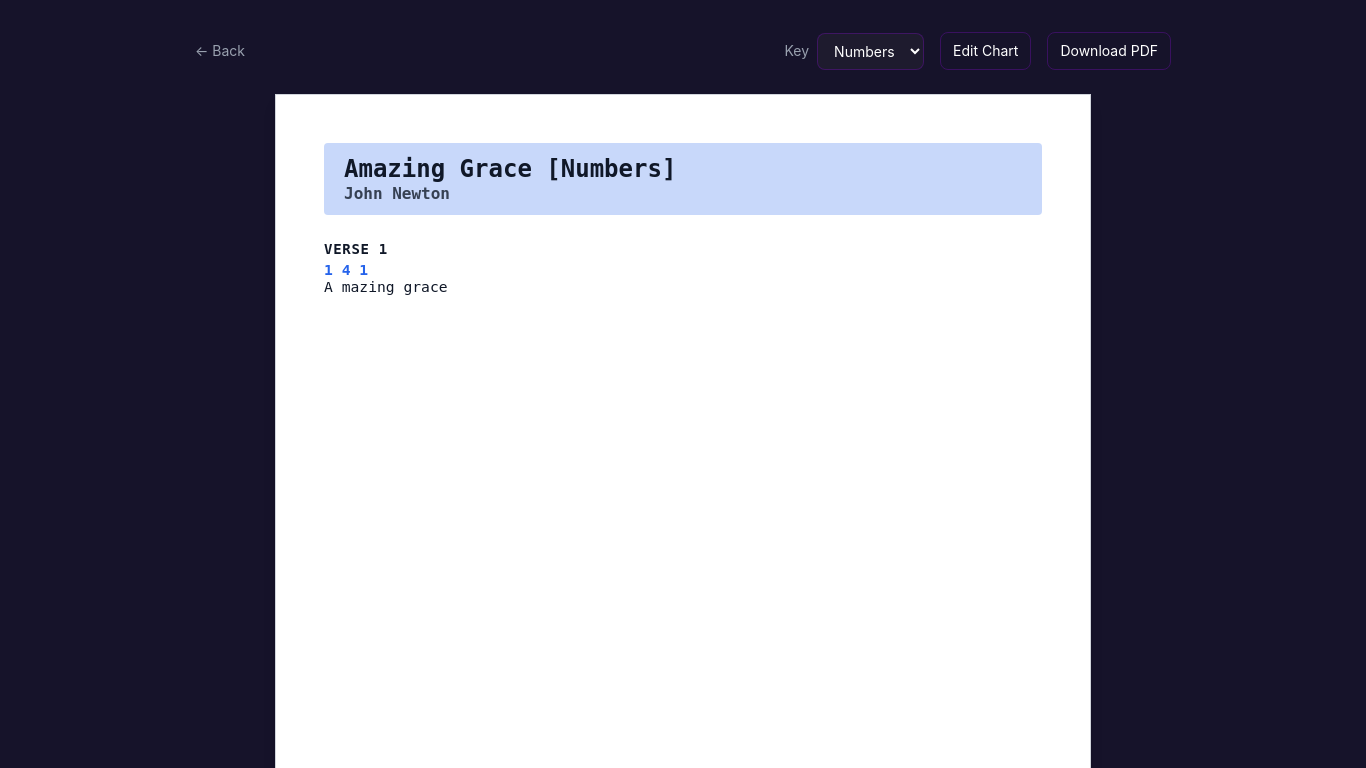
Test: ChartViewerPage — Download PDF (#13) › surfaces a role="alert" error when downloadChartPdf rejects (R13.3)
Click the button "Download PDF": [1109, 51] box [1047,32,1171,70]
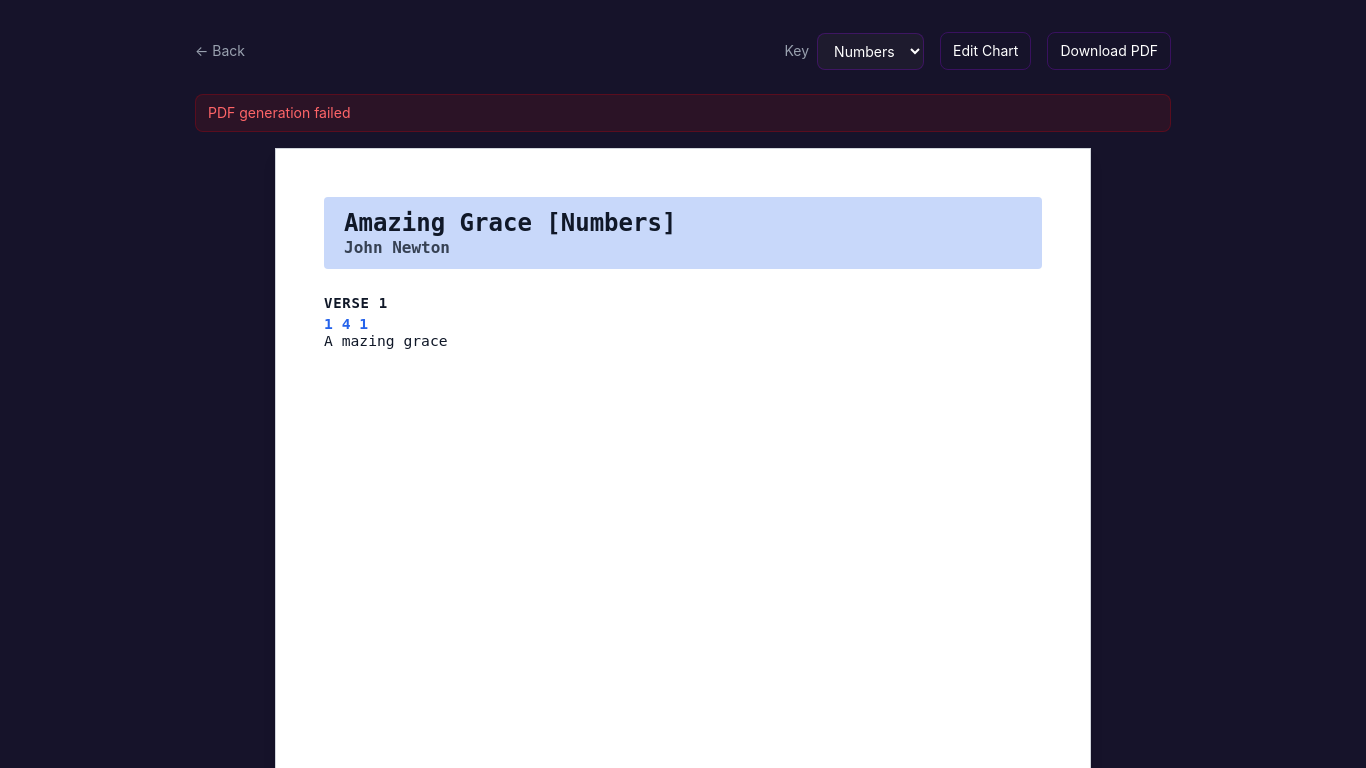
Now the message reads "PDF generation failed", box [208,104,350,121]
